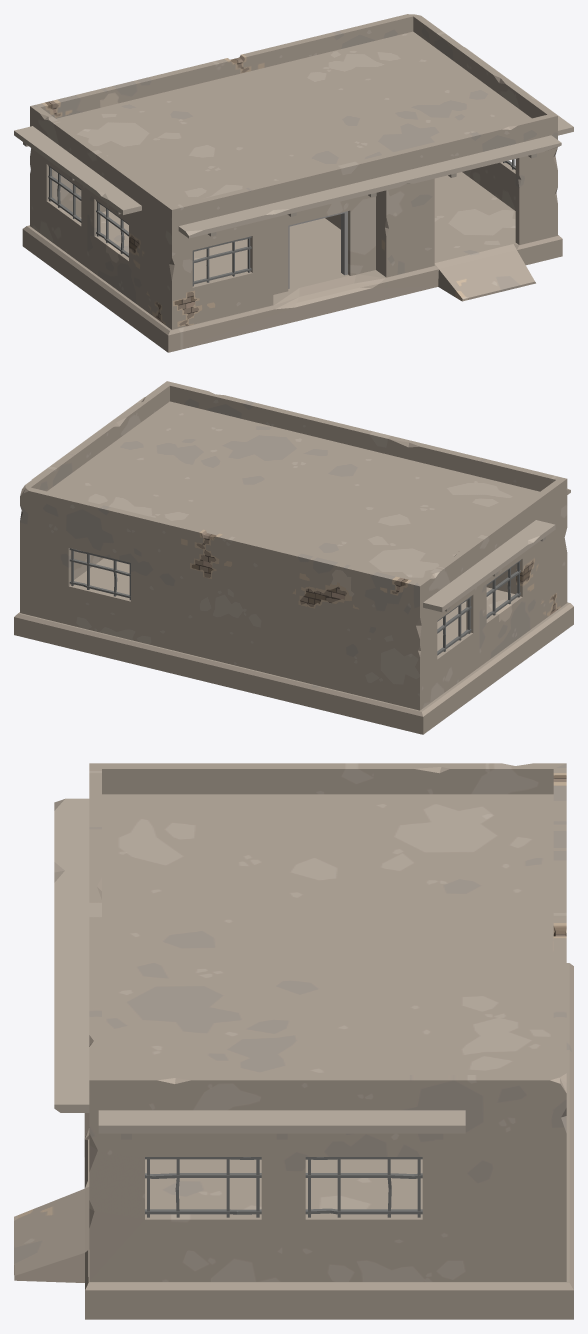
File: SM_Bld_GasStation_01.fbx
3 renders of one model, top to bottom at view 1: azimuth 30°, elevation 25°; view 2: azimuth 150°, elevation 25°; view 3: azimuth 270°, elevation 25°, orthographic. The views are drawn at different scales.
Parts seen in each view (by area): view 1: SM_Bld_GasStation_01; view 2: SM_Bld_GasStation_01; view 3: SM_Bld_GasStation_01.
Boxes of the visible parts, x1=… form: SM_Bld_GasStation_01: x1=14, y1=14, x2=573, y2=352; SM_Bld_GasStation_01: x1=14, y1=381, x2=573, y2=734; SM_Bld_GasStation_01: x1=14, y1=763, x2=573, y2=1319.
Bounding box in the file's own units: 1587 × 503 × 1080.
